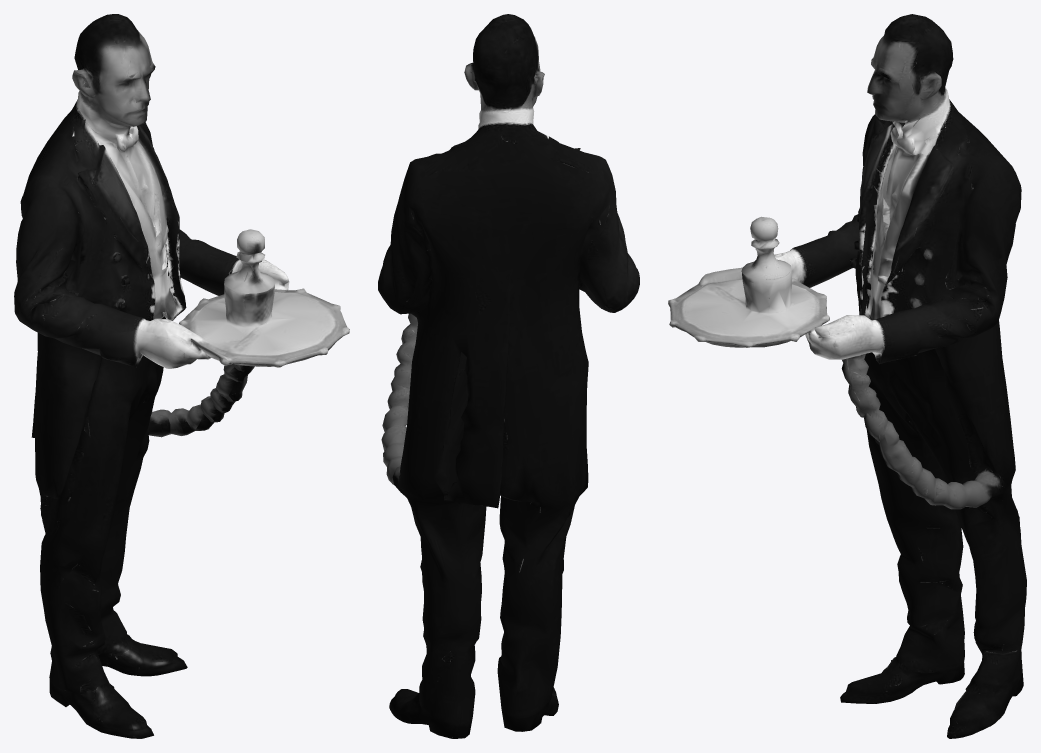
The model's file is william_holloway_ghost.glb.
3 renders of one model, left to right at view 1: azimuth 30°, elevation 25°; view 2: azimuth 150°, elevation 25°; view 3: azimuth 270°, elevation 25°, orthographic.
Parts seen in each view (by area): view 1: RETOPO; view 2: RETOPO; view 3: RETOPO.
Boxes of the visible parts, <box> form: RETOPO: <box>14,14,349,738</box>; RETOPO: <box>378,14,639,738</box>; RETOPO: <box>668,14,1026,738</box>.
Bounding box in the file's own units: 0.7228 × 1.88 × 0.8928.
1 material, 1 textured.
